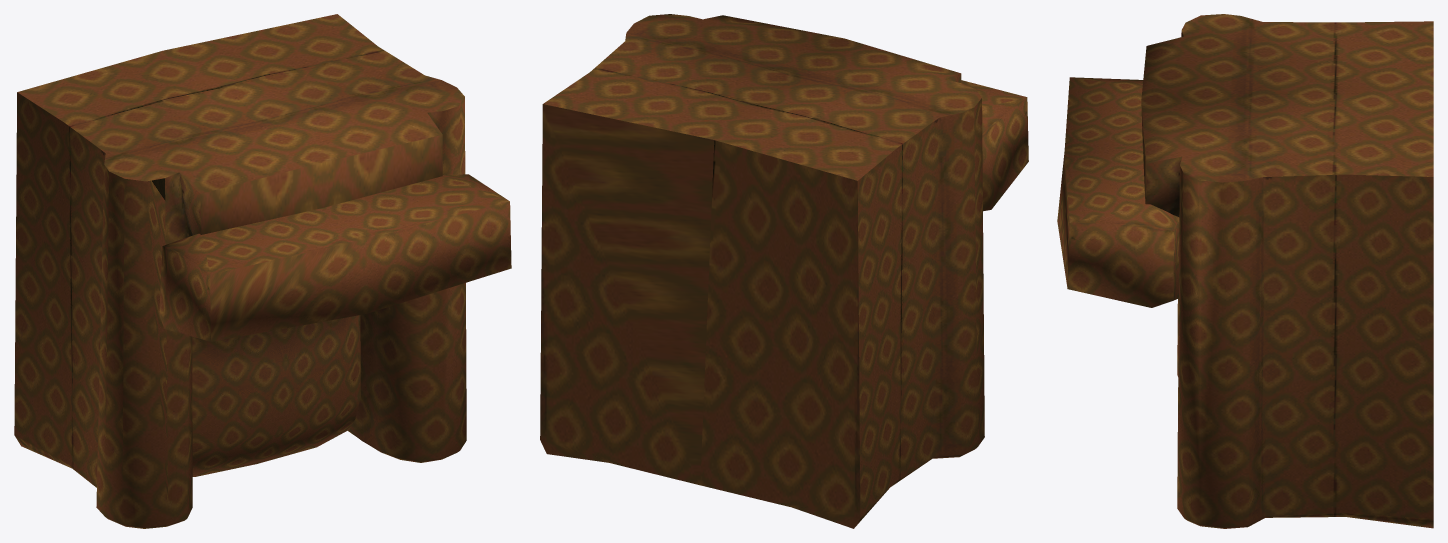
Rendered from nt_2020_moving_chair_01_LOD1.obj.
3 renders of one model, left to right at view 1: azimuth 30°, elevation 25°; view 2: azimuth 150°, elevation 25°; view 3: azimuth 270°, elevation 25°, orthographic.
Visible parts, largest first — view 1: mtl_nt_2020_moving_chair_01; view 2: mtl_nt_2020_moving_chair_01; view 3: mtl_nt_2020_moving_chair_01.
Part boxes in pixels (box(x1,y1,x2,y2)): mtl_nt_2020_moving_chair_01: box(14, 14, 511, 528); mtl_nt_2020_moving_chair_01: box(540, 14, 1028, 528); mtl_nt_2020_moving_chair_01: box(1057, 14, 1433, 528).
Bounding box in the file's own units: 100 × 97.45 × 92.51.
